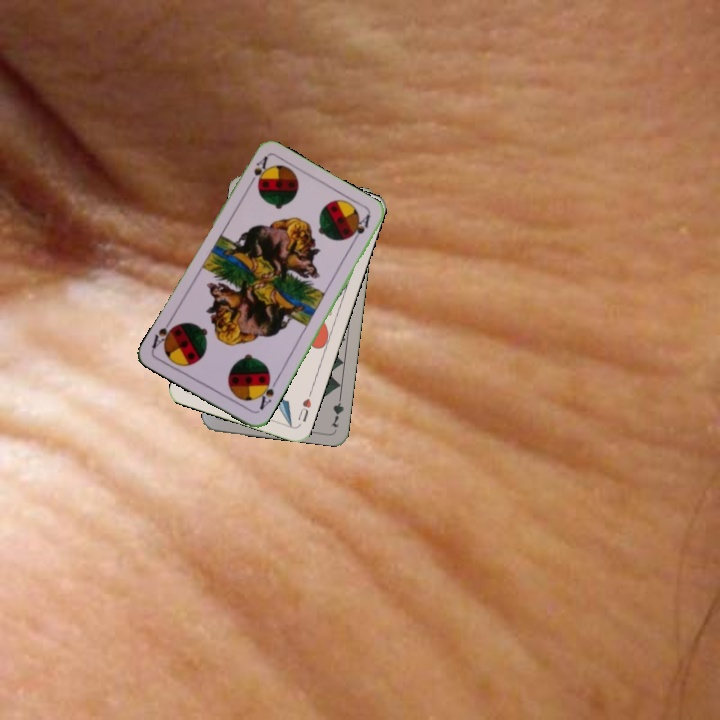G7: (327, 390, 346, 430)
HU: (294, 394, 314, 425)
SA: (253, 373, 279, 413), (244, 152, 271, 190)
